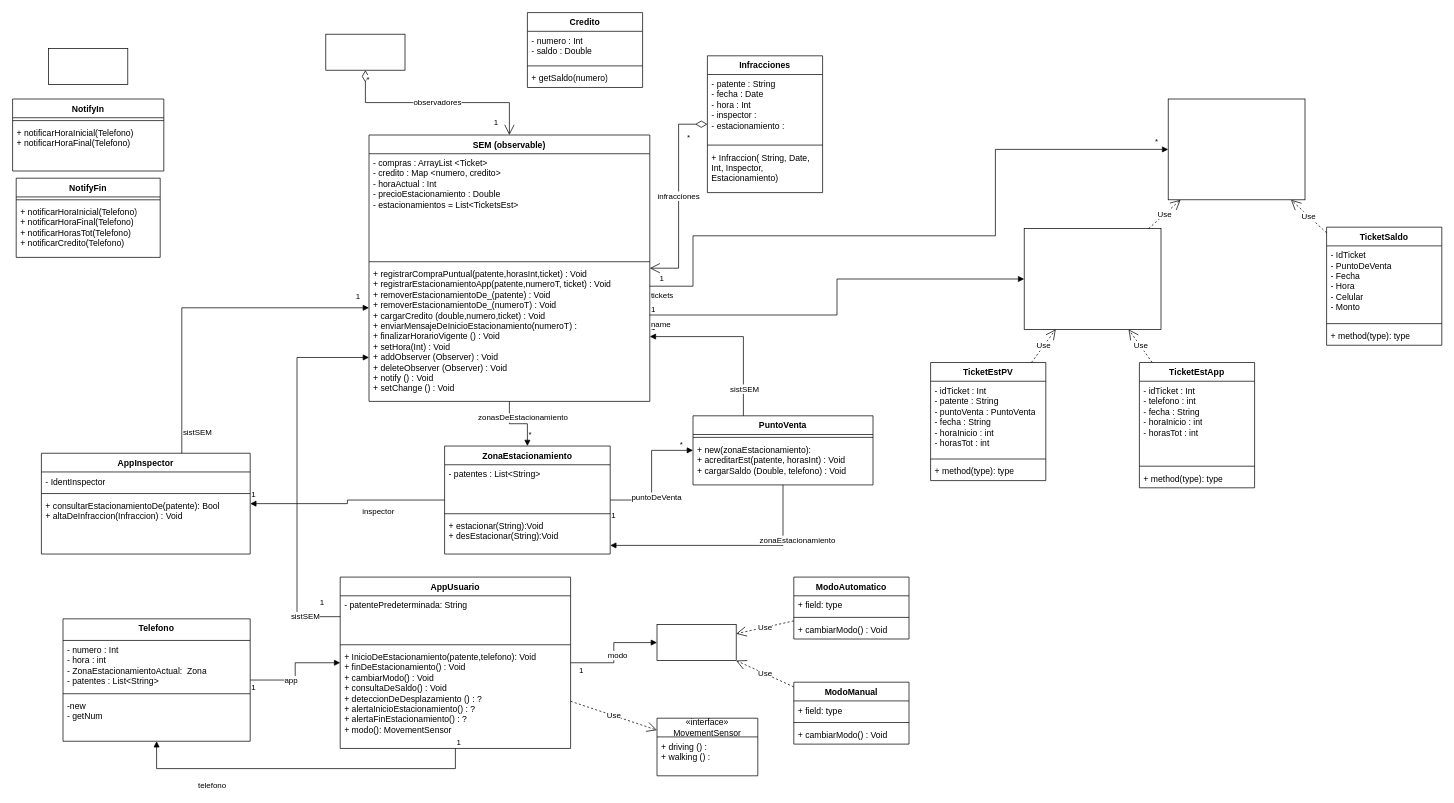
This 1454x803 diagram has some shape labels left out. The centre of each missing label's shape, as x and y in pixels:
<<Interface>> Ticket + method1(Type): Type + method2(Type, Type): Type: the point at 1236,149
<<Interface>> TicketEst + method1(Type): Type + method2(Type, Type): Type: the point at 1092,278
Son Mensajes, no clases: the point at 88,66
«interface» Modo: the point at 696,642
«interface» Observadores: the point at 365,51
